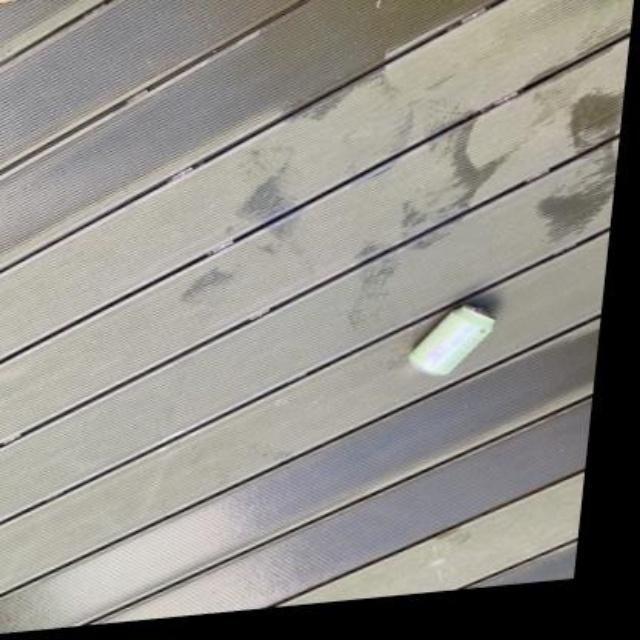trash: (408, 305, 494, 374)
